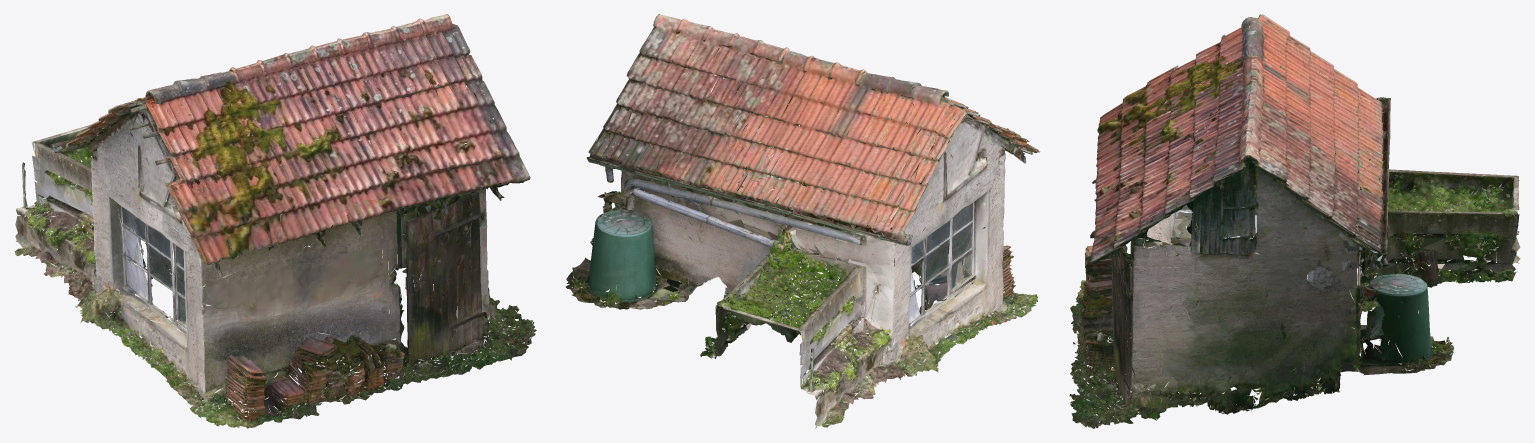
File: scan_casa_velha.glb
3 views of the same model, side by side, from view 1: azimuth 30°, elevation 25°; view 2: azimuth 150°, elevation 25°; view 3: azimuth 270°, elevation 25° (orthographic). The views are drawn at different scales.
Parts seen in each view (by area): view 1: Stereo textured mesh; view 2: Stereo textured mesh; view 3: Stereo textured mesh.
Boxes of the visible parts, x1,y1,x2,y2 form: Stereo textured mesh: (14,14,536,428); Stereo textured mesh: (565,14,1040,428); Stereo textured mesh: (1069,14,1520,428).
Bounding box in the file's own units: 4.28 × 3.39 × 4.86.
Materials: 3 (3 with a texture image).
